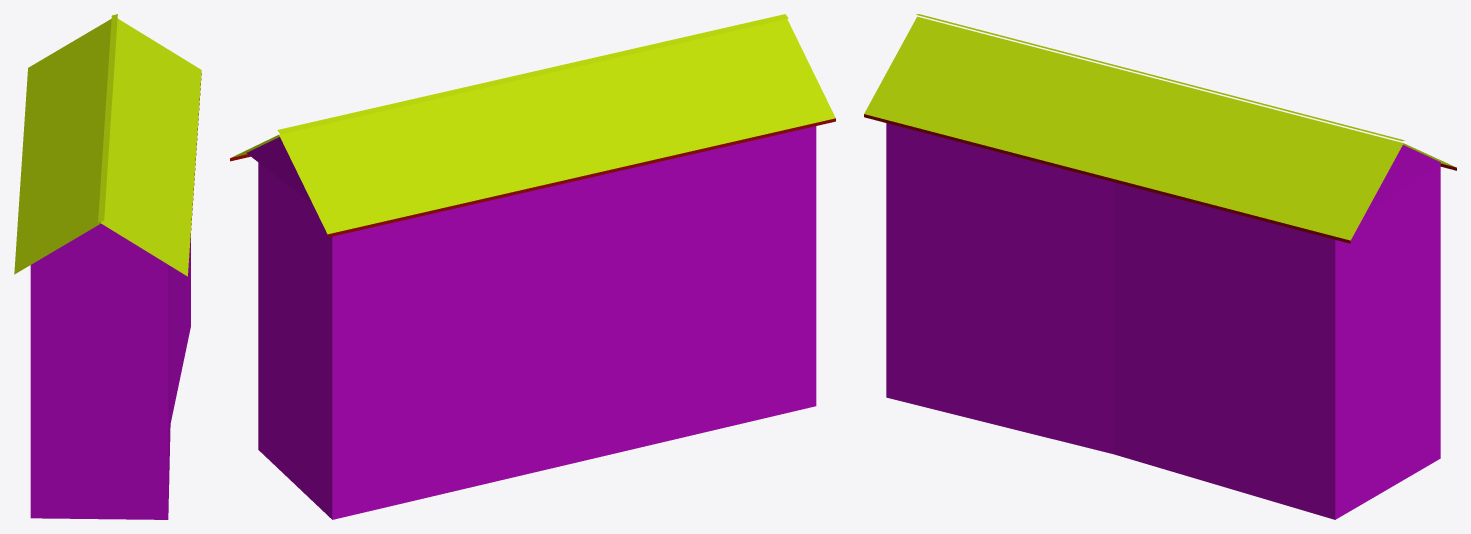
The picture shows the model from 3 angles, left to right: view 1: azimuth 30°, elevation 25°; view 2: azimuth 150°, elevation 25°; view 3: azimuth 270°, elevation 25°; orthographic projection. The views are drawn at different scales.
Parts seen in each view (by area): view 1: sc_106; view 2: sc_106; view 3: sc_106.
Boxes of the visible parts, x1=… form: sc_106: x1=14, y1=14, x2=201, y2=519; sc_106: x1=230, y1=14, x2=835, y2=519; sc_106: x1=864, y1=14, x2=1456, y2=519.
Bounding box in the file's own units: 15.91 × 13.14 × 19.98.
